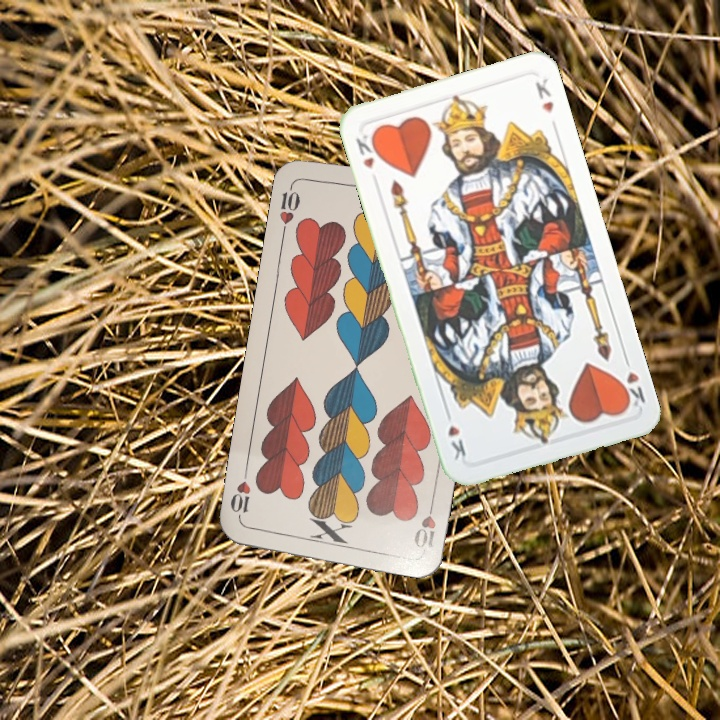H10: (275, 177, 303, 236), (410, 494, 438, 551)
HK: (615, 351, 648, 411), (352, 129, 383, 172)
